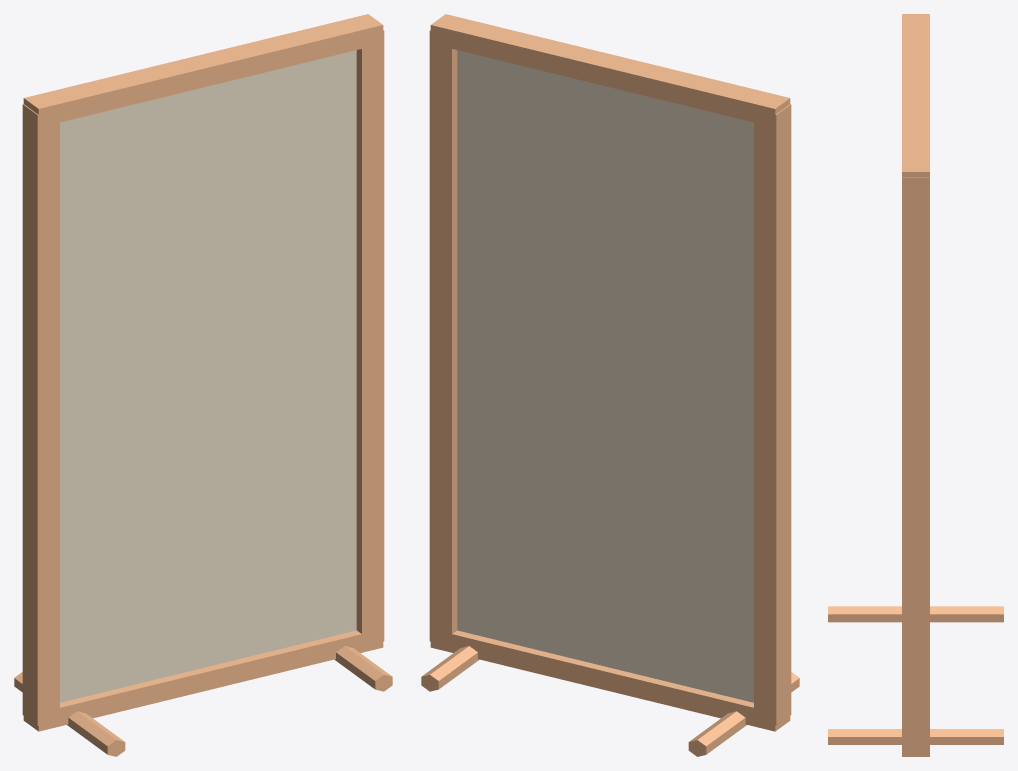
3 views of the same model, side by side, from view 1: azimuth 30°, elevation 25°; view 2: azimuth 150°, elevation 25°; view 3: azimuth 270°, elevation 25° (orthographic). The views are drawn at different scales.
Parts seen in each view (by area): view 1: Mirror face, Frame, Frame.001, Frame.003, Frame.002, Foot, Foot.001; view 2: Mirror face, Frame, Frame.001, Frame.003, Frame.002, Foot, Foot.001; view 3: Frame.001, Frame.003, Foot, Foot.001.
Part boxes in pixels (bbox=[...]): Mirror face: bbox=[60, 50, 356, 702]; Frame: bbox=[22, 104, 59, 725]; Frame.001: bbox=[356, 30, 384, 646]; Frame.003: bbox=[23, 14, 383, 126]; Frame.002: bbox=[23, 630, 383, 731]; Foot: bbox=[14, 672, 125, 756]; Foot.001: bbox=[334, 646, 392, 691]; Mirror face: bbox=[457, 50, 753, 702]; Frame: bbox=[754, 104, 791, 725]; Frame.001: bbox=[429, 30, 457, 646]; Frame.003: bbox=[430, 14, 790, 127]; Frame.002: bbox=[430, 630, 790, 731]; Foot: bbox=[688, 672, 799, 756]; Foot.001: bbox=[421, 646, 479, 691]; Frame.001: bbox=[902, 177, 929, 751]; Frame.003: bbox=[902, 14, 929, 177]; Foot: bbox=[828, 606, 1003, 622]; Foot.001: bbox=[828, 729, 1003, 744].
Size of the model in its own units: 1.07 by 1.85 by 0.5.
Materials: 1 (1 with a texture image).
